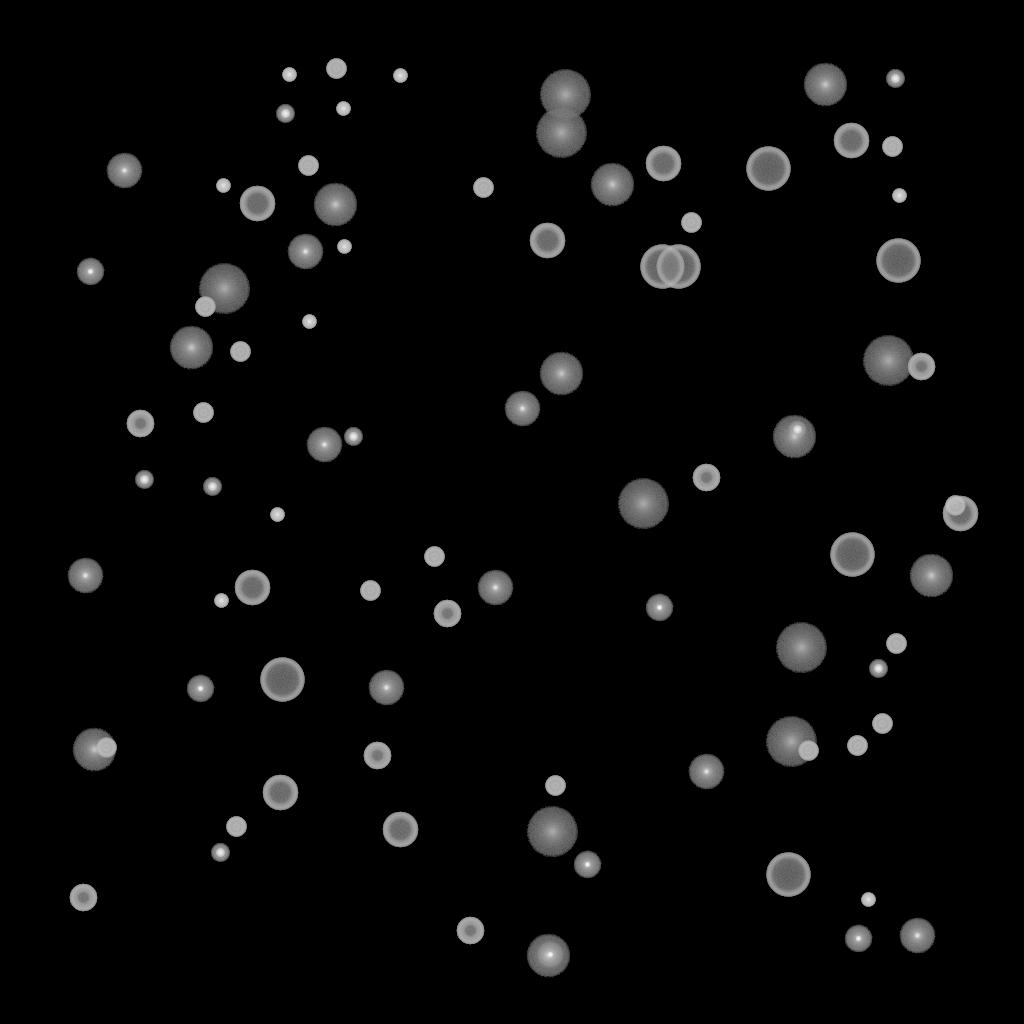depth:-10: (536, 941, 564, 969), (844, 925, 872, 953), (645, 594, 673, 622), (573, 851, 601, 879), (76, 258, 104, 286), (186, 675, 214, 703)
depth:-20: (344, 428, 362, 446), (788, 421, 806, 439), (203, 478, 221, 496), (135, 471, 153, 489), (211, 844, 229, 862), (869, 660, 887, 678), (276, 105, 294, 123), (886, 70, 904, 88)
depth:-30: (270, 508, 284, 522), (214, 594, 228, 608), (393, 69, 407, 83), (892, 189, 906, 203), (336, 102, 350, 116), (302, 315, 316, 329), (861, 893, 875, 907), (216, 179, 230, 193), (337, 240, 351, 254), (282, 68, 296, 82)
depth:-40: (195, 297, 215, 317), (872, 714, 892, 734), (298, 156, 318, 176), (326, 59, 346, 79), (945, 496, 965, 516), (473, 178, 493, 198), (96, 738, 116, 758), (847, 736, 867, 756), (798, 741, 818, 761), (193, 403, 213, 423), (424, 547, 444, 567), (545, 776, 565, 796), (886, 634, 906, 654), (681, 213, 701, 233), (226, 817, 246, 837), (230, 342, 250, 362), (882, 137, 902, 157), (360, 581, 380, 601)
depth:-50: (456, 917, 484, 945), (363, 742, 391, 770), (907, 353, 935, 381), (433, 600, 461, 628), (69, 884, 97, 912), (126, 410, 154, 438), (692, 464, 720, 492)
depth:-60: (239, 186, 275, 222), (645, 146, 681, 182), (382, 812, 418, 848), (833, 123, 869, 159), (942, 496, 978, 532), (234, 570, 270, 606), (529, 223, 565, 259), (262, 775, 298, 811)
depth:-70: (260, 658, 304, 702), (766, 853, 810, 897), (746, 147, 790, 191), (640, 245, 684, 289), (656, 245, 700, 289), (830, 533, 874, 577), (876, 239, 920, 283)
depth:0: (368, 670, 404, 706), (306, 427, 342, 463), (504, 391, 540, 427), (688, 754, 724, 790), (106, 153, 142, 189), (477, 570, 513, 606), (287, 234, 323, 270), (67, 558, 103, 594), (899, 918, 935, 954)
depth:10: (72, 728, 116, 772), (526, 934, 570, 978), (803, 63, 847, 107), (772, 415, 816, 459), (313, 183, 357, 227), (590, 163, 634, 207), (909, 554, 953, 598), (169, 326, 213, 370), (539, 352, 583, 396)
depth:20: (862, 336, 914, 386), (198, 264, 250, 314), (526, 807, 578, 857), (617, 479, 669, 529), (765, 717, 817, 767), (775, 623, 827, 673), (535, 108, 587, 158), (539, 70, 591, 120)
